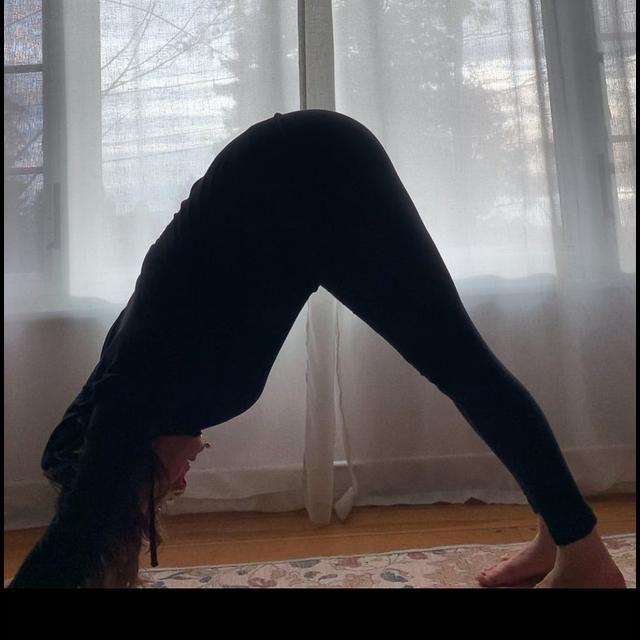Downward-Facing_Dog: (2, 107, 640, 587)
